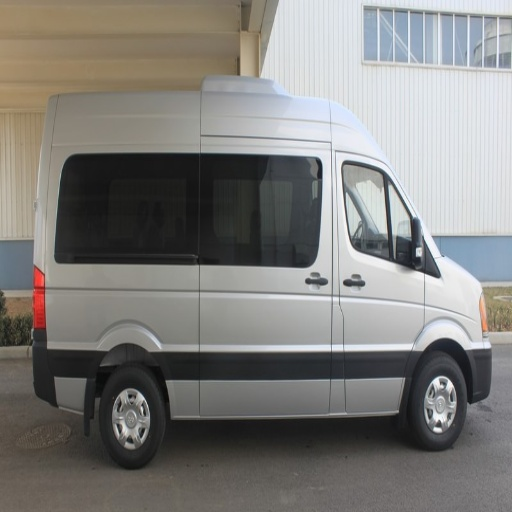back_glass: (249, 153, 332, 268)
back_left_light: (340, 157, 391, 260), (100, 177, 161, 252)
front_glass: (197, 270, 333, 411)
front_left_light: (378, 168, 423, 302), (356, 381, 395, 407)
tailgate: (45, 260, 221, 414), (357, 304, 422, 373)
trunk: (97, 367, 163, 467), (411, 355, 466, 449)
